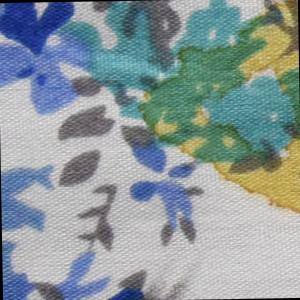Oil Stain: (134, 1, 300, 221)
Stain: (136, 260, 203, 300)
